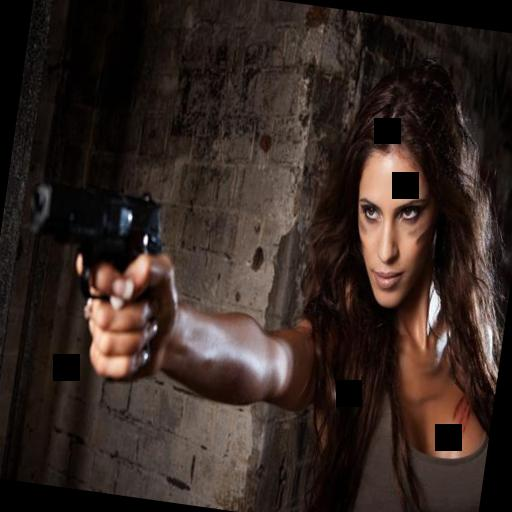Handgun: (8, 170, 176, 378)
